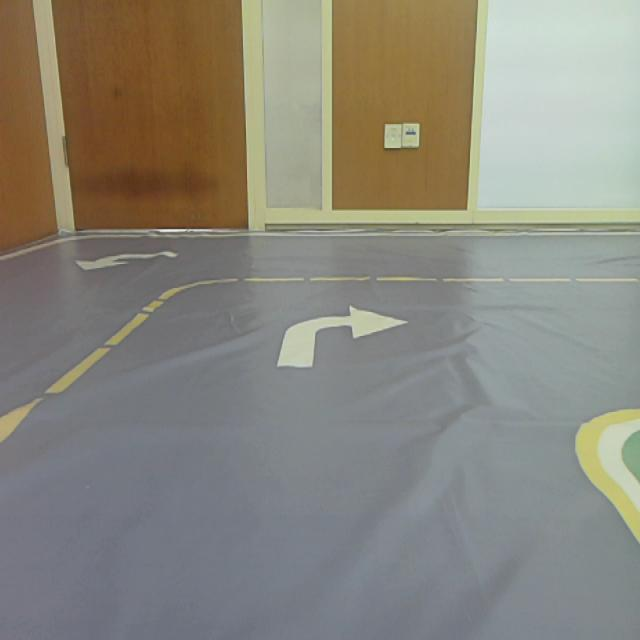left_lane: (0, 291, 171, 447)
right_lane: (575, 447, 640, 544)
